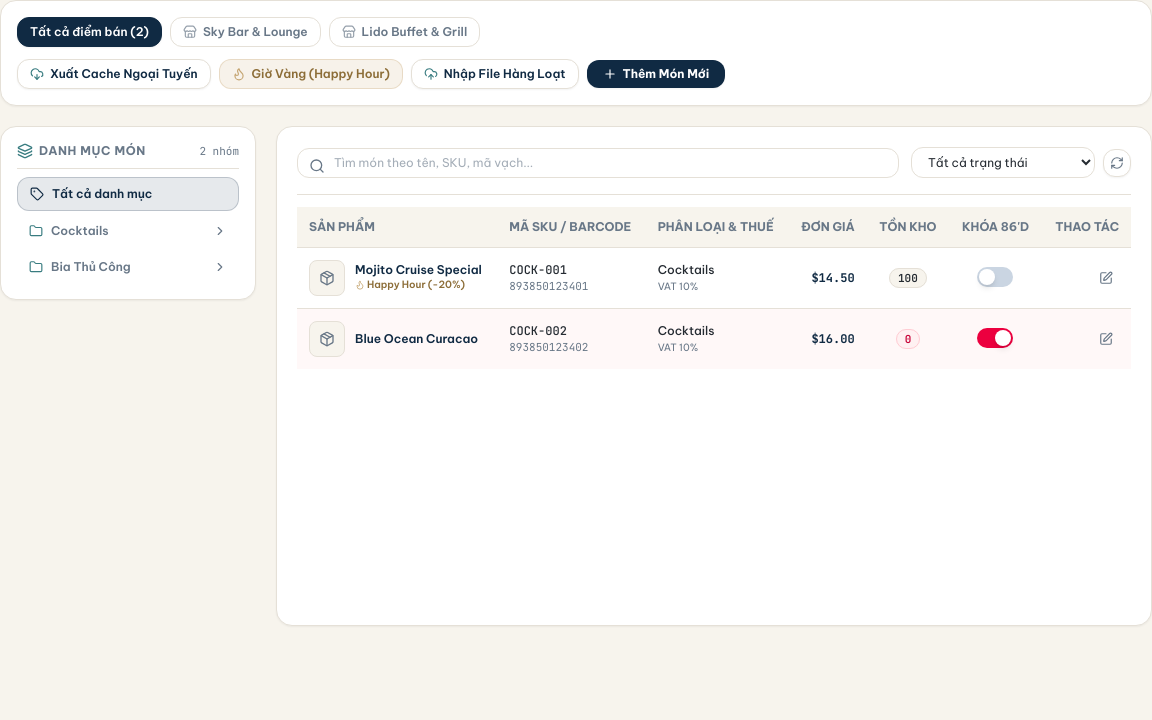
PosCatalogManagement Component Tests (KAN-396) › opens and closes product creation modal
Expected: the text "Mojito Cruise Special" is shown, [355,262,482,278]
Click the button "Thêm Món Mới". click: click(656, 74)
box: [586,60,725,88]
(page scrolled)
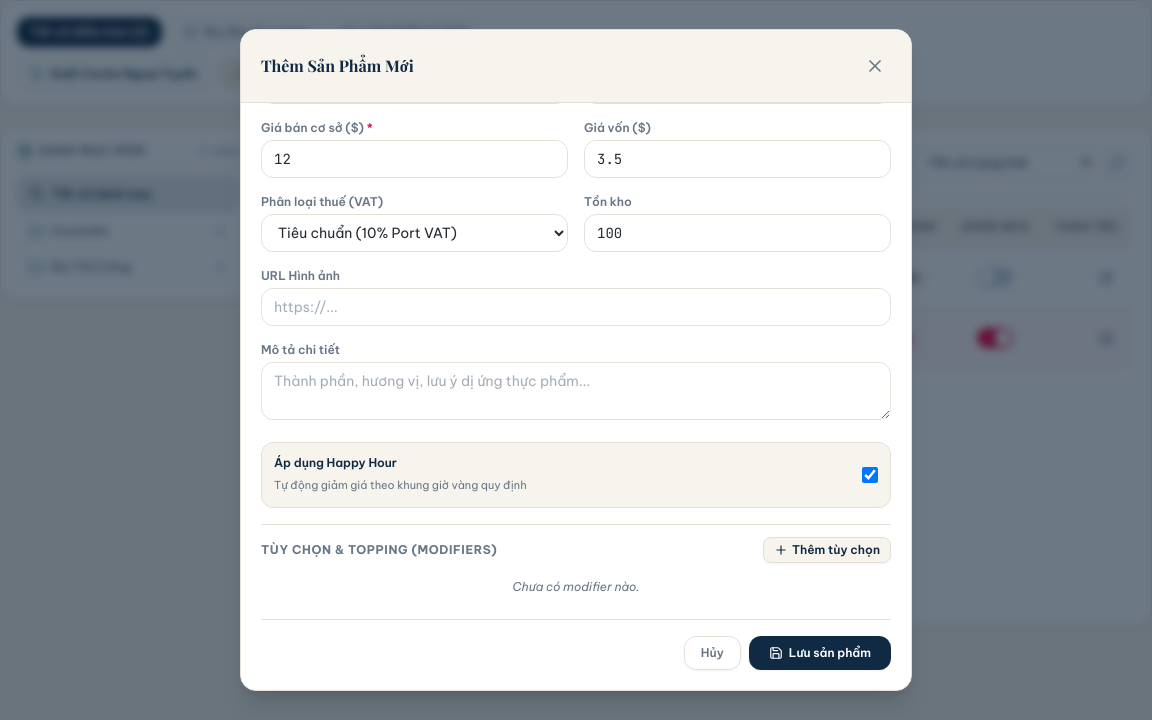
Result: the text "Thêm Sản Phẩm Mới" is shown at [261,54,414,78]
# Close modal
Click the button "Hủy". click: click(712, 653)
box: [684,636,741,670]
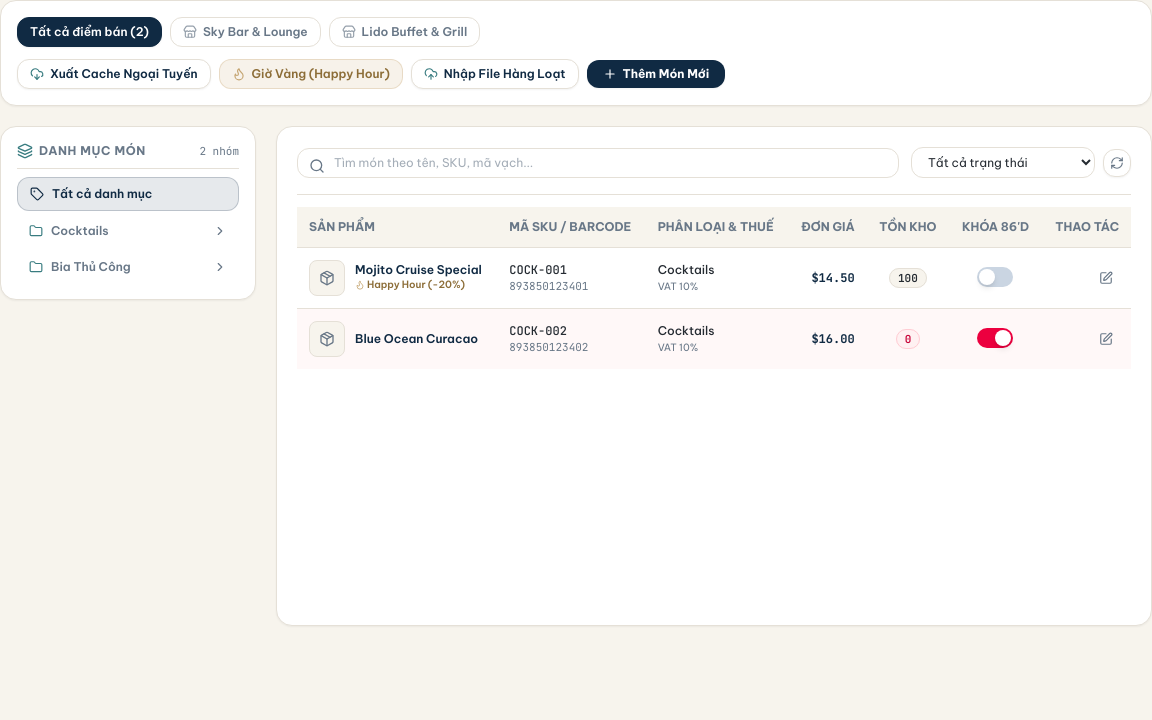
Result: the text "Thêm Sản Phẩm Mới" is gone
